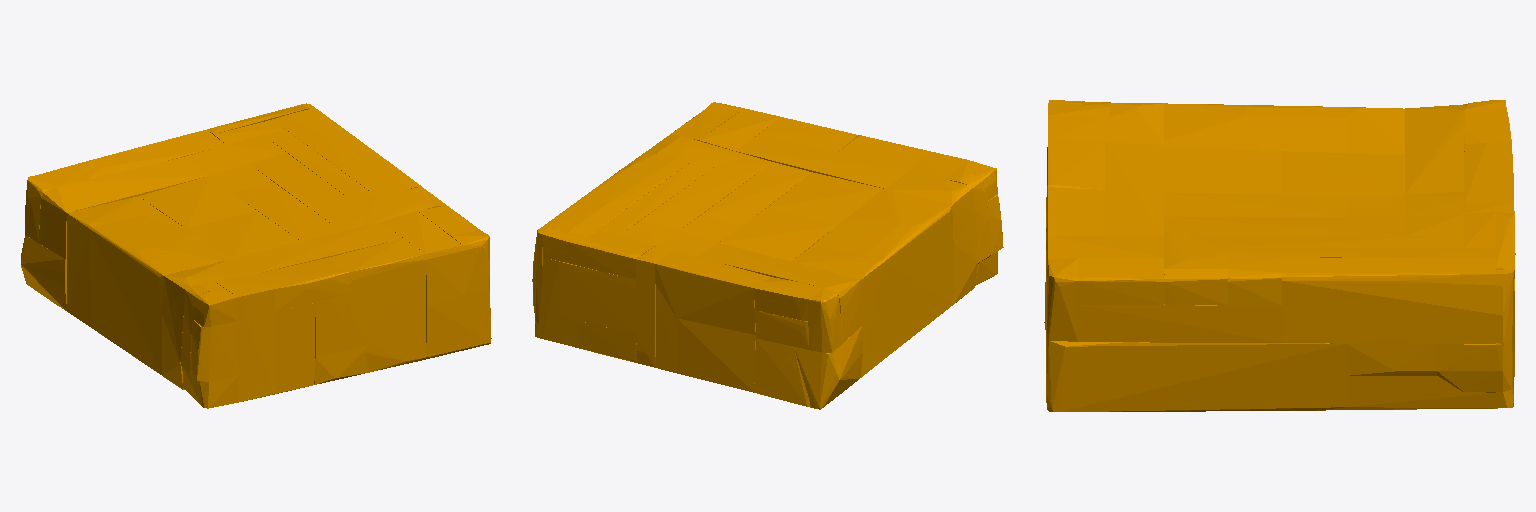
The robot description file, URDF, robot "box-sultana":
<?xml version="1.0" ?>
<robot name="box-sultana">
  <link name="baseLink">
    <contact>
      <lateral_friction value="1.0"/>
      <inertia_scaling value="3.0"/>
    </contact>
    <inertial>
      <origin rpy="0 0 0" xyz="0.000 0.000 0.000"/>
       <mass value=".1"/>
       <inertia ixx="1" ixy="0.0" ixz="0.0" iyy="1" iyz="0.0" izz="1"/>
    </inertial>
    <visual>
      <origin rpy="0 0 0" xyz="0 0 0"/>
      <geometry>
        <mesh filename="box/box-sultana_yo_fruit_render.obj" scale="1.0 1.0 1.0"/>
      </geometry>
    </visual>
    <collision>
      <origin rpy="0 0 0" xyz="0 0 0"/>
      <geometry>
        <mesh filename="../collision/box/box-sultana_yo_fruit_render.obj" scale="1.0 1.0 1.0"/>
      </geometry>
    </collision>
  </link>
</robot>
        

--- Facts derived from the render (not from the file) ---
The picture shows the robot from 3 angles, left to right: view 1: azimuth 30°, elevation 25°; view 2: azimuth 150°, elevation 25°; view 3: azimuth 270°, elevation 25°; orthographic projection.
Model box-sultana with 1 links and 0 joints (none), rooted at baseLink, posed every joint at zero.
Links seen in each view (by area): view 1: baseLink; view 2: baseLink; view 3: baseLink.
Boxes of the visible links, x1,y1,x2,y2 form: baseLink: [21, 103, 491, 408]; baseLink: [532, 102, 1003, 409]; baseLink: [1044, 100, 1515, 411].
Size in the robot's own frame: 0.1384 by 0.1455 by 0.0493 metres.
1 mesh visuals loaded from 1 distinct referenced files (1 OBJ).